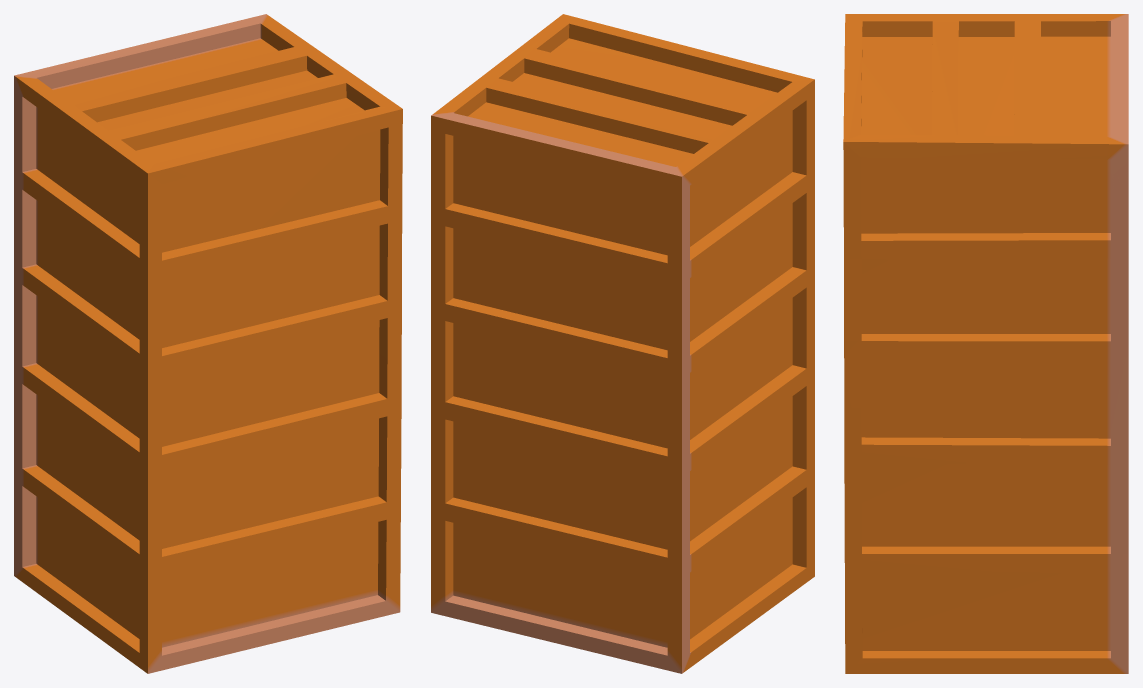
File: JiZhuangXiang1_Mo.fbx
3 views of the same model, side by side, from view 1: azimuth 30°, elevation 25°; view 2: azimuth 150°, elevation 25°; view 3: azimuth 270°, elevation 25° (orthographic). The views are drawn at different scales.
Parts seen in each view (by area): view 1: 对象002; view 2: 对象002; view 3: 对象002.
Boxes of the visible parts, x1,y1,x2,y2 form: 对象002: (14, 14, 402, 673); 对象002: (431, 14, 814, 673); 对象002: (843, 14, 1128, 673).
Size of the model in its own units: 189 by 358 by 174.
